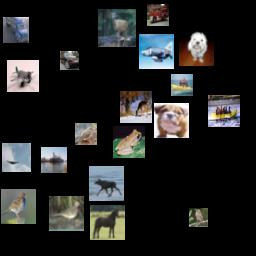airplane: (139, 34, 174, 69), (7, 60, 39, 92), (2, 143, 31, 172)
automobile: (60, 51, 79, 70)
bird: (49, 196, 84, 231), (1, 189, 36, 224), (75, 123, 97, 145), (189, 208, 208, 227)
deer: (98, 9, 136, 47), (89, 166, 124, 201), (120, 91, 152, 123)
dog: (179, 31, 214, 66), (154, 103, 189, 138)
frog: (113, 126, 145, 158)
ship: (208, 95, 240, 127), (41, 147, 67, 173), (171, 74, 193, 96)
truck: (3, 17, 29, 43), (147, 4, 169, 26)
